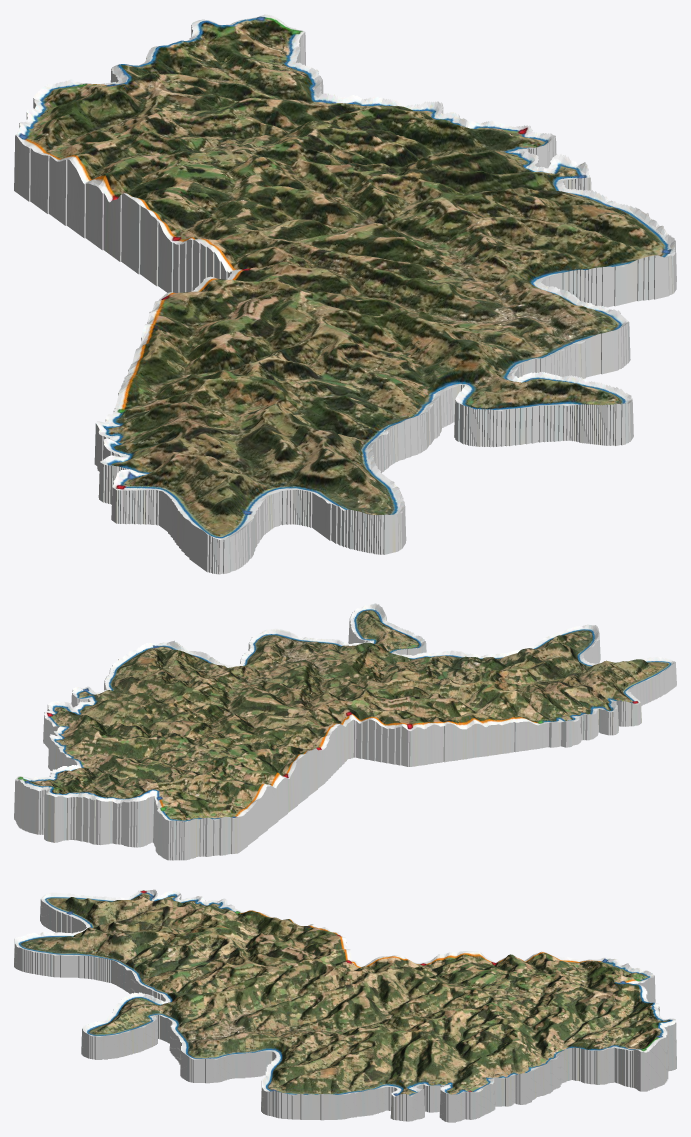
3 views of the same model, one above another, from view 1: azimuth 30°, elevation 25°; view 2: azimuth 150°, elevation 25°; view 3: azimuth 270°, elevation 25° (orthographic). The views are drawn at different scales.
Bounding box in the file's own units: 0.9997 × 0.1073 × 1.32.
Materials: 1 (1 with a texture image).
